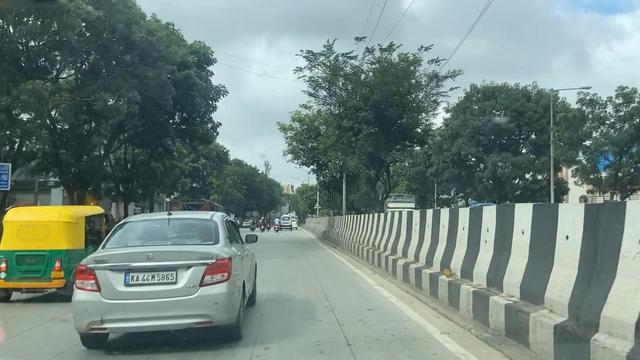LMV: (84, 183, 263, 351), (10, 195, 106, 297)
